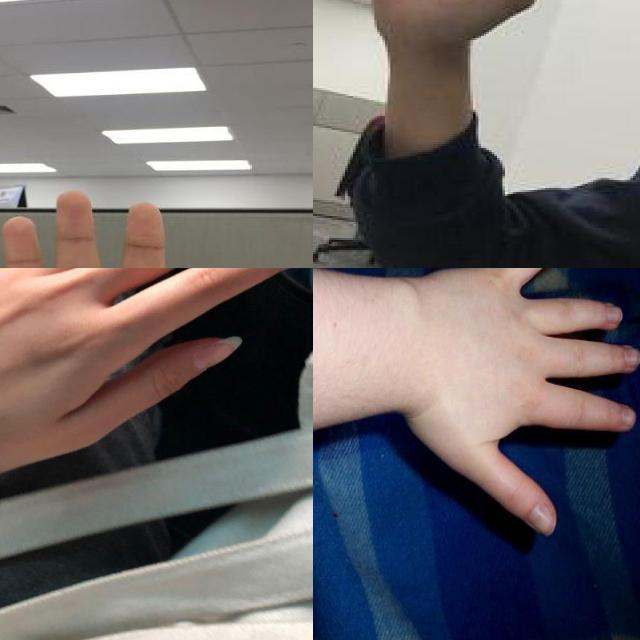no-gloves: (0, 268, 313, 486), (395, 268, 640, 536), (366, 0, 596, 123), (0, 187, 306, 268)
